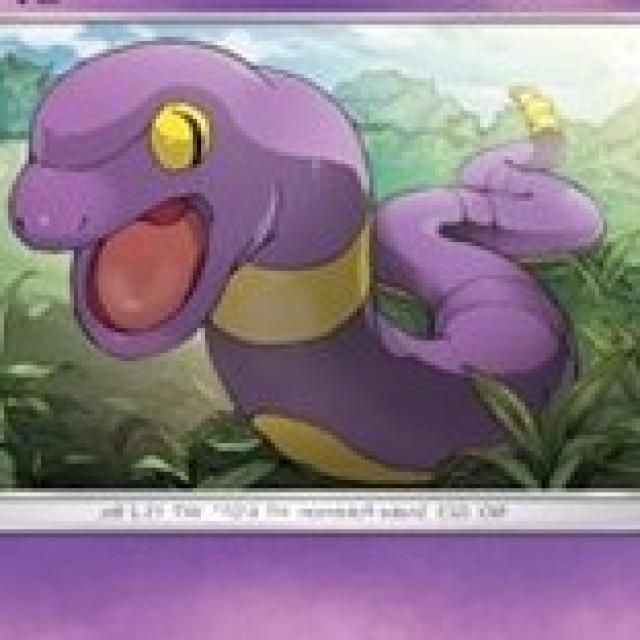Ekans: (13, 38, 454, 481)
